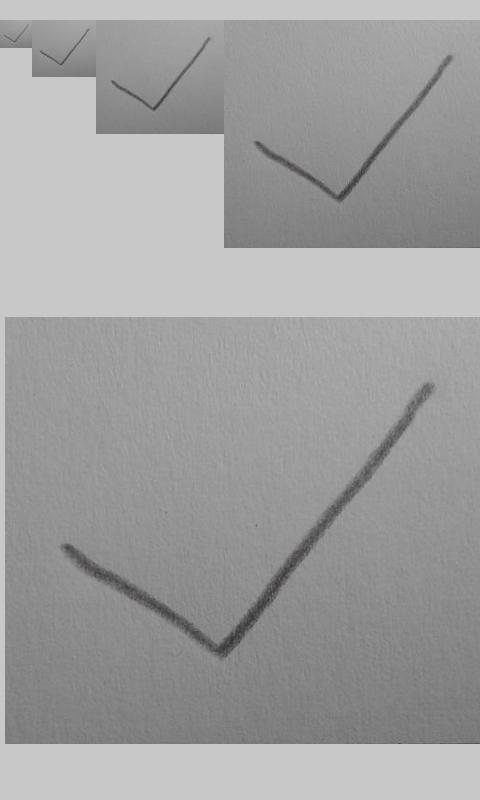check_box: (57, 383, 431, 658), (253, 54, 453, 203), (112, 38, 211, 111), (40, 29, 89, 65), (3, 24, 29, 43)
